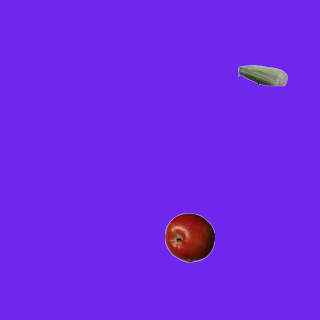Apple Braeburn: (164, 212, 214, 262)
Corn Husk: (237, 50, 287, 100)
